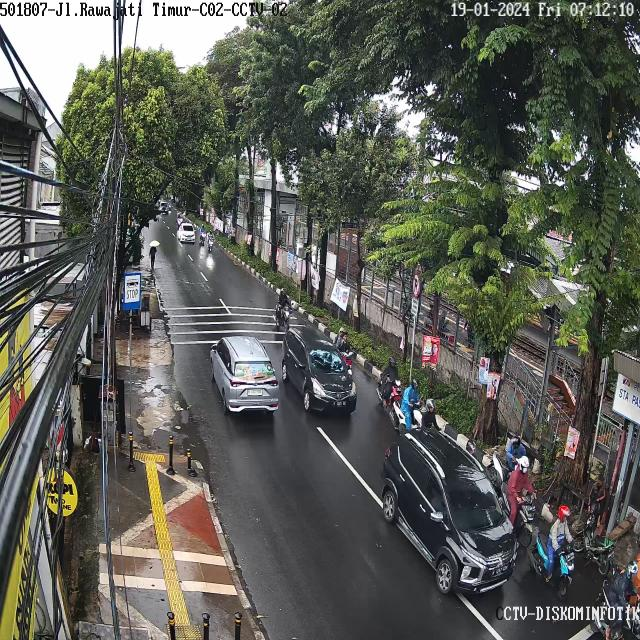Payung: (139, 286, 154, 332), (149, 238, 160, 247)
